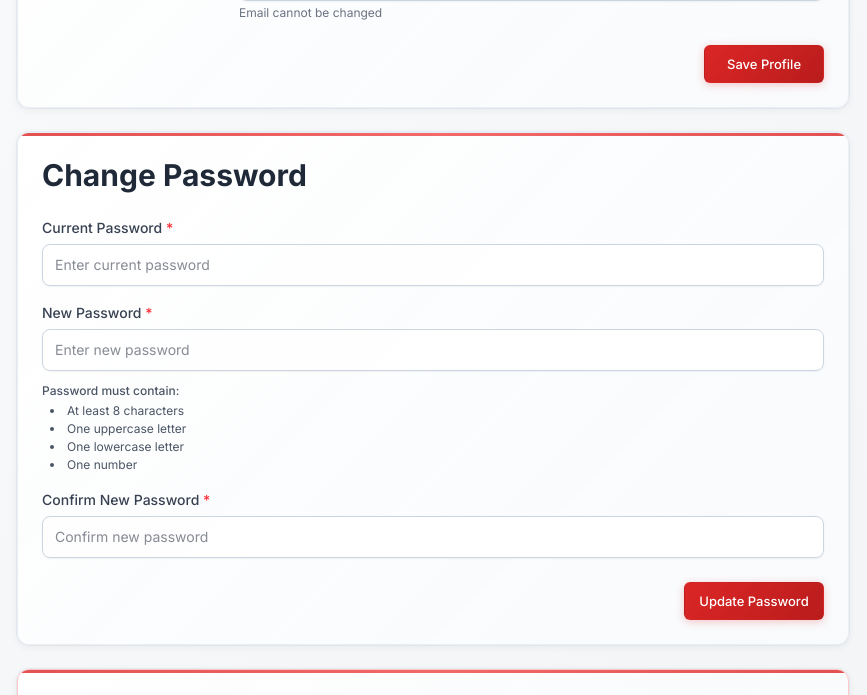
ProfilePage › password form › should show password strength indicator
The width and height of the screenshot is (867, 695).
(page scrolled)
Type "WeakPass123!" into the password field labelled "New Password *".
click(433, 350); type("WeakPass123!")  # box [42,329,824,371]
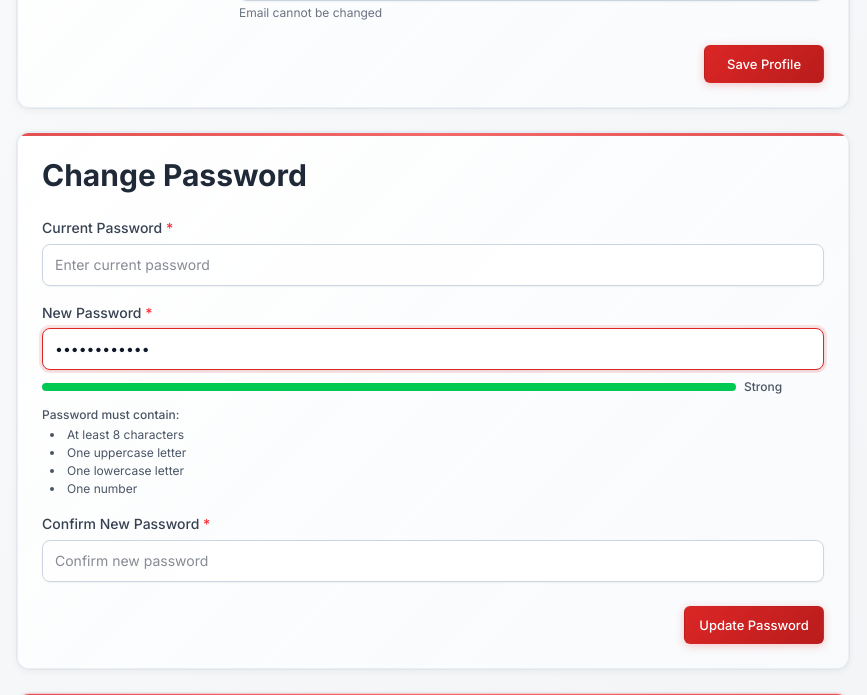
Check: the text "Strong" is shown, box [744,379,782,394]
